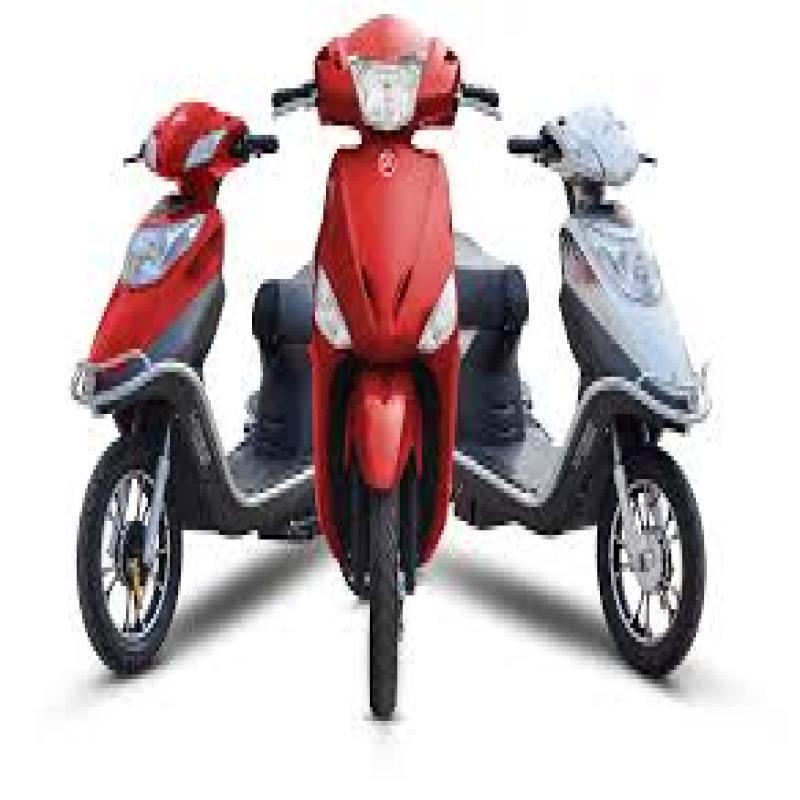bike: (58, 68, 378, 682), (446, 29, 720, 698), (265, 19, 499, 768)
